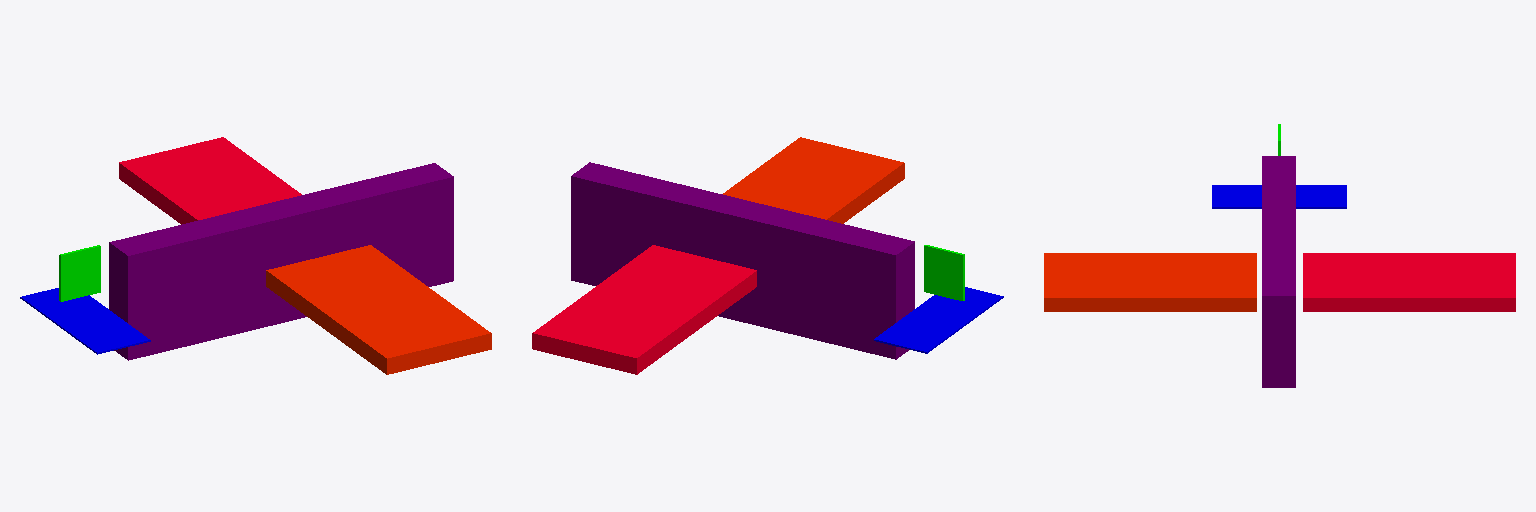
The robot description file, URDF, robot "Plane":
<robot name="Plane">
  <link
    name="Fuselage">
    <inertial>
      <origin
        xyz="0.0064116 -3.8482E-05 6.9037E-05"
        rpy="0 0 0" />
      <mass
        value="0.5476" />
      <inertia
        ixx="0.0010352"
        ixy="6.3703E-06"
        ixz="0.00012413"
        iyy="0.0062106"
        iyz="-6.3903E-06"
        izz="0.0070685" />
    </inertial>
    <visual>
      <origin
        xyz="-.095 0 0"
        rpy="0 0 0" />
      <geometry>
       <!-- <mesh filename="meshes/PlaneFuselage.obj" /> -->
       <box size = ".623 .063 .191"/>
      </geometry>
      <material
        name="">
        <color
          rgba="0.5 0 0.5 1" />
      </material>
    </visual>
    <collision>
      <origin
        xyz="-.095 0 0"
        rpy="0 0 0" />
      <geometry>
          <box size = ".623 .063 .191"/>
      </geometry>
    </collision>
  </link>
  <link
    name="LeftWing">
    <inertial>
      <origin
        xyz="-0.026311 0.17404 -0.0011937"
        rpy="0 0 0" />
      <mass
        value="0.0070381" />
      <inertia
        ixx="5.6681E-05"
        ixy="1.3411E-06"
        ixz="4.6705E-07"
        iyy="1.5567E-05"
        iyz="4.1572E-08"
        izz="7.2091E-05" />
    </inertial>
    <visual>
      <origin
        xyz="-.05 .2 0"
        rpy="0 0 0" />
      <geometry>
        <!--<mesh filename="meshes/PlaneLeftWing.obj" />
        <sphere radius =".02"/> -->
        <box size =".2 .4 .03"/>
      </geometry>
      <material
        name="">
        <color
          rgba="1 0 0.2 1" />
      </material>
    </visual>
    <collision>
      <origin
        xyz="-.05 .2 0"
        rpy="0 0 0" />
      <geometry>
        <box size =".2 .4 .03"/>
      </geometry>
    </collision>
  </link>
  <joint
    name="LeftWingJoint"
    type="revolute">
    <origin
      xyz="0.00093765 0.04586 -0.00091841"
      rpy="0 0 0" />
    <parent
      link="Fuselage" />
    <child
      link="LeftWing" />
    <axis
      xyz="0 1 0" />
    <limit
      lower="-0.65"
      upper="0.65"
      effort="0"
      velocity="18" />
  </joint>
  <link
    name="RightWing">
    <inertial>
      <origin
        xyz="-0.026514 -0.17185 -0.0012004"
        rpy="0 0 0" />
      <mass
        value="0.007081" />
      <inertia
        ixx="5.7443E-05"
        ixy="-1.5302E-06"
        ixz="4.6881E-07"
        iyy="1.5614E-05"
        iyz="-4.7318E-08"
        izz="7.29E-05" />
    </inertial>
    <visual>
      <origin
        xyz="-.05 -.2 0"
        rpy="0 0 0" />
      <geometry>
        <!--<mesh filename="meshes/PlaneRightWing.obj" /> -->
        <box size =".2 .4 .03"/>
      </geometry>
      <material
        name="">
        <color
          rgba="1 0.2 0 1" />
      </material>
    </visual>
    <collision>
      <origin
        xyz="-.05 -.2 0"
        rpy="0 0 0" />
      <geometry>
        <box size =".2 .4 .03"/>
      </geometry>
    </collision>
  </link>
  <joint
    name="RightWingJoint"
    type="revolute">
    <origin
      xyz="0.00093765 -0.042393 -0.00091841"
      rpy="0 0 0" />
    <parent
      link="Fuselage" />
    <child
      link="RightWing" />
    <axis
      xyz="0 1 0" />
    <limit
      lower="-0.65"
      upper="0.65"
      effort="0"
      velocity="18" />
  </joint>
  <link
    name="Elevator">
    <inertial>
      <origin
        xyz="-0.028692 0.00092117 -9.0303E-05"
        rpy="0 0 0" />
      <mass
        value="0.0034019" />
      <inertia
        ixx="1.7645E-05"
        ixy="6.1641E-08"
        ixz="1.7326E-08"
        iyy="2.633E-06"
        iyz="9.4289E-09"
        izz="2.0262E-05" />
    </inertial>
    <visual>
      <origin
        xyz="-.0254 0 0"
        rpy="0 0 0" />
      <geometry>
        <!-- <mesh filename="meshes/PlaneElevator.obj" /> -->
        <box size =".102 .254 .003"/>
      </geometry>
      <material
        name="">
        <color
          rgba="0 0 1 1" />
      </material>
    </visual>
    <collision>
      <origin
        xyz="-.0254 0 0"
        rpy="0 0 0" />
      <geometry>
        <box size =".102 .254 .003"/>
      </geometry>
    </collision>
  </link>
  <joint
    name="ElevatorJoint"
    type="revolute">
    <origin
      xyz="-0.44438 0.00052809 -0.017886"
      rpy="0 0 0" />
    <parent
      link="Fuselage" />
    <child
      link="Elevator" />
    <axis
      xyz="0 1 0" />
    <limit
      lower="-0.65"
      upper="0.65"
      effort="0"
      velocity="18" />
  </joint>
  <link
    name="Rudder">
    <inertial>
      <origin
        xyz="-0.037114 -0.0057157 0.00096752"
        rpy="0 0 0" />
      <mass
        value="0.0012918" />
      <inertia
        ixx="1.3582E-06"
        ixy="-4.7962E-07"
        ixz="3.6658E-08"
        iyy="9.6911E-07"
        iyz="-4.6973E-08"
        izz="2.3033E-06" />
    </inertial>
    <visual>
      <origin
        xyz="-.038 0.018 0"
        rpy="0 0 0" />
      <geometry>
        <box size =".076 .085 .005"/>
        <!-- <mesh filename="meshes/PlaneRudder.obj" /> -->
      </geometry>
      <material
        name="">
        <color
          rgba="0 1 0 1" />
      </material>
    </visual>
    <collision>
      <origin
        xyz="-.038 0.018 0"
        rpy="0 0 0" />
      <geometry>
        <box size =".076 .085 .005"/>
      </geometry>
    </collision>
  </link>
  <joint
    name="RudderJoint"
    type="revolute">
    <origin
      xyz="-0.44234 0.00052809 0.05"
      rpy="1.5708 0 0" />
    <parent
      link="Fuselage" />
    <child
      link="Rudder" />
    <axis
      xyz="0 1 0" />
    <limit
      lower="-0.65"
      upper="0.65"
      effort="0"
      velocity="18" />
  </joint>
<!--FORCE ELEMENTS ADDED MANUALLY AFTER SOLIDWORKS EXPORT-->
  <force_element name="LeftWing_force" type="wing"> 
  	<parent link="LeftWing"/>
  	<profile value="ht23.dat"/> 
  	<origin xyz="-.01 .18 0" rpy="0 0 0"/> 
  	<chord value=".228"/> 
  	<span value=".28"/> 
  	<nominal_speed value="10"/> 
    <stall_angle value ="10"/>
  </force_element>
  <force_element name="RightWing_force" type="wing"> 
  	<parent link="RightWing"/>
  	<profile value="ht23.dat"/> 
  	<origin xyz="-.01 -.18 0" rpy="0 0 0"/> 
  	<chord value=".228"/> 
  	<span value=".28"/> 
  	<nominal_speed value="10"/> 
    <stall_angle value ="10"/>
  </force_element>
  <force_element name="Elevator_force" type="wing"> 
  	<parent link="Elevator"/>
  	<profile value="flat plate"/> 
  	<origin xyz="-.0105 0 0" rpy="0 0 0"/> 
  	<chord value="0.10"/> 
  	<span value=".254"/> 
  	<nominal_speed value="10"/> 
    <stall_angle value ="12"/>
  </force_element>
  <force_element name="Rudder_force" type="wing"> 
  	<parent link="Rudder"/>
  	<profile value="flat plate"/> 
  	<origin xyz="-.022 0 0" rpy="0 0 0"/> 
  	<chord value=".07"/> 
  	<span value=".23"/> 
  	<nominal_speed value="10"/> 
    <stall_angle value ="12"/>
  </force_element>
  <force_element name="Propellers" type="thrust">
    <parent link="Fuselage"/>
    <origin xyz=".2 0 0"/>
    <direction xyz="1 0 0"/>
    <!--full throttle (255 value) is about .57 kg of thrust -->
    <scaleFactor value =".00223"/>
    <limits value="0 300"/>
  </force_element>
<!--Even though transmissions come in after Thrust in the URDF,
	They come in as inputs 1-4 in the Drake model -->
  <transmission name="RightWingTorque" type="SimpleTransmission" >
    <joint name="RightWingJoint" />
    <actuator name="RightWingServo"/>
    <mechanicalReduction>1</mechanicalReduction>
  </transmission>
  <transmission name="LeftWingTorque" type="SimpleTransmission" >
    <joint name="LeftWingJoint" />
    <actuator name="LeftWingServo"/>
    <mechanicalReduction>1</mechanicalReduction>
  </transmission>
  <transmission name="ElevatorTorque" type="SimpleTransmission" >
    <joint name="ElevatorJoint" />
    <actuator name="ElevatorServo"/>
    <mechanicalReduction>1</mechanicalReduction>
  </transmission>
  <transmission name="RudderTorque" type="SimpleTransmission" >
    <joint name="RudderJoint" />
    <actuator name="RudderServo"/>
    <mechanicalReduction>1</mechanicalReduction>
  </transmission>
</robot>

--- What the picture shows (computed from the rendered views, not written in the file) ---
The picture shows the robot from 3 angles, left to right: view 1: azimuth 30°, elevation 25°; view 2: azimuth 150°, elevation 25°; view 3: azimuth 270°, elevation 25°; orthographic projection.
Robot: Plane — 5 links, 4 joints (4 revolute); root link Fuselage; default pose: every joint at zero.
Links seen in each view (by area): view 1: Fuselage, RightWing, LeftWing, Elevator, Rudder; view 2: Fuselage, LeftWing, RightWing, Elevator, Rudder; view 3: LeftWing, RightWing, Fuselage, Elevator.
Link boxes in pixels (x1,y1,x2,y2): Fuselage: (109,163,453,360); RightWing: (266,245,491,374); LeftWing: (119,137,301,224); Elevator: (20,288,150,354); Rudder: (59,245,100,301); Fuselage: (571,162,914,359); LeftWing: (532,245,756,374); RightWing: (723,137,904,223); Elevator: (874,287,1003,353); Rudder: (924,245,964,300); LeftWing: (1303,253,1515,311); RightWing: (1044,253,1256,311); Fuselage: (1262,156,1295,387); Elevator: (1212,185,1346,208).
Size in the robot's own frame: 0.7373 by 0.8883 by 0.206 metres.
Geometry: primitives only (box / cylinder / sphere), no mesh files.